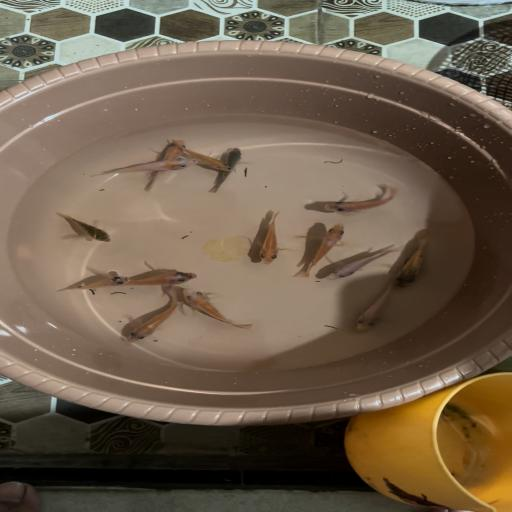nila: (114, 287, 187, 346), (176, 287, 256, 332), (291, 222, 347, 282), (388, 230, 440, 293), (89, 155, 200, 184), (324, 245, 398, 287), (142, 137, 190, 196), (51, 207, 121, 244), (317, 186, 403, 216), (252, 208, 294, 269), (348, 287, 399, 335), (212, 142, 254, 195), (127, 265, 202, 290), (54, 270, 131, 293), (182, 146, 231, 175)
